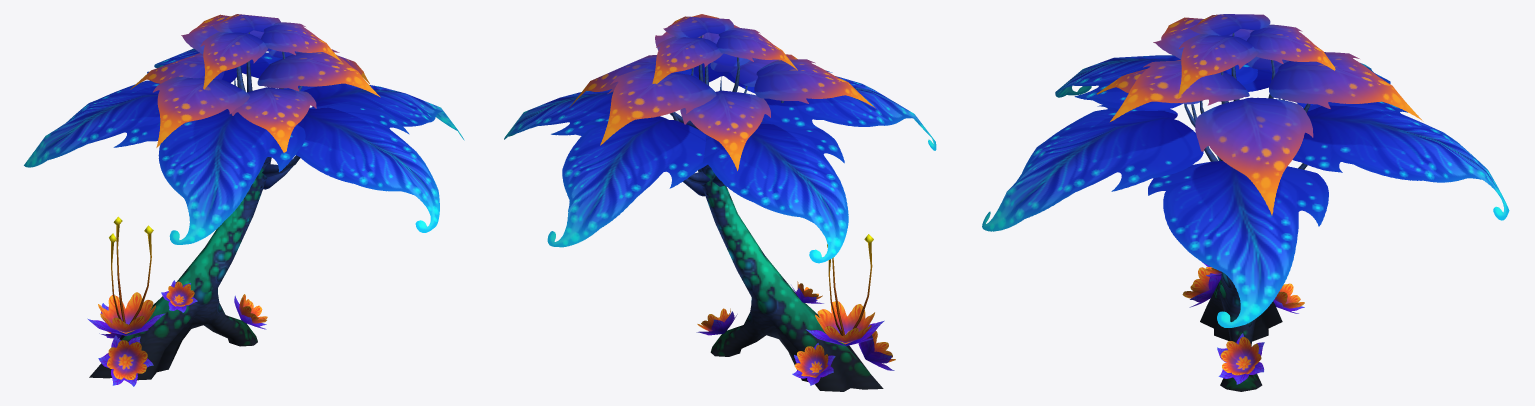
The model's file is Blue_Tree_02a.FBX.
3 views of the same model, side by side, from view 1: azimuth 30°, elevation 25°; view 2: azimuth 150°, elevation 25°; view 3: azimuth 270°, elevation 25° (orthographic). The views are drawn at different scales.
Visible parts, largest first — view 1: Blue_Tree_02a; view 2: Blue_Tree_02a; view 3: Blue_Tree_02a.
Part boxes in pixels (left/top/right/bottom): Blue_Tree_02a: left=24, top=14, right=464, bottom=386; Blue_Tree_02a: left=504, top=14, right=936, bottom=391; Blue_Tree_02a: left=982, top=14, right=1509, bottom=391.
Size of the model in its own units: 26743 by 20083 by 27273.
